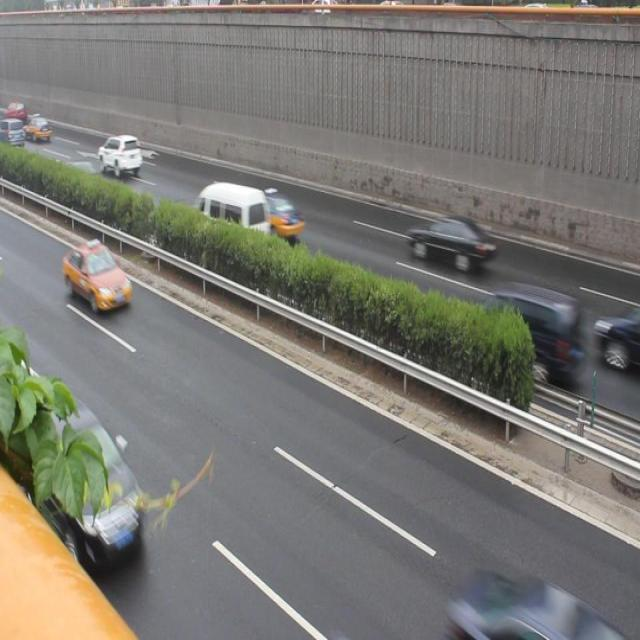car: (451, 557, 620, 640), (465, 278, 582, 381), (407, 213, 501, 273), (62, 241, 133, 318), (252, 184, 305, 244)
truck: (192, 181, 270, 255)
